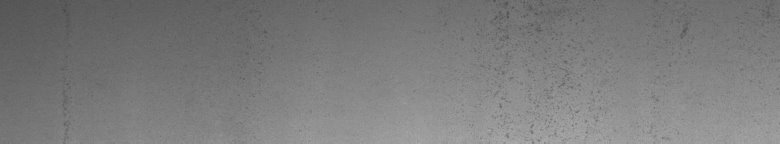ib: (485, 4, 598, 136)
